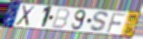1: (40, 6, 53, 30)
9: (71, 9, 87, 32)
B: (50, 8, 71, 30)
F: (106, 12, 128, 34)
S: (89, 10, 110, 33)
X: (14, 4, 37, 28)
